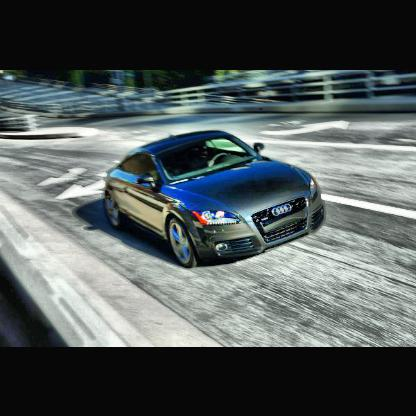Audi TTS Coupe 2012: (105, 130, 328, 270)
